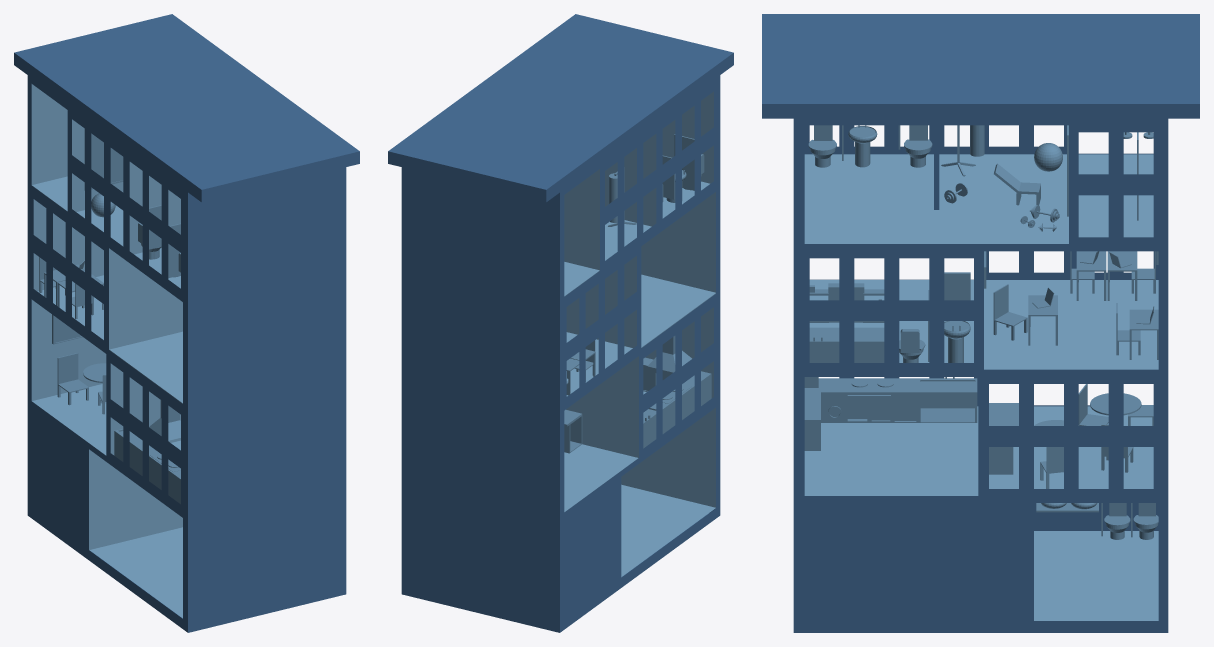
Rendered from office-2.glb.
The picture shows the model from 3 angles, left to right: view 1: azimuth 30°, elevation 25°; view 2: azimuth 150°, elevation 25°; view 3: azimuth 270°, elevation 25°; orthographic projection. The views are drawn at different scales.
Parts seen in each view (by area): view 1: office; view 2: office; view 3: office.
Part boxes in pixels (x1,y1,x2,y2): office: (14,14,359,632); office: (388,14,733,632); office: (762,14,1199,632).
Size of what is drawn, in the model's own units: 13.02 by 35.44 by 26.6.
